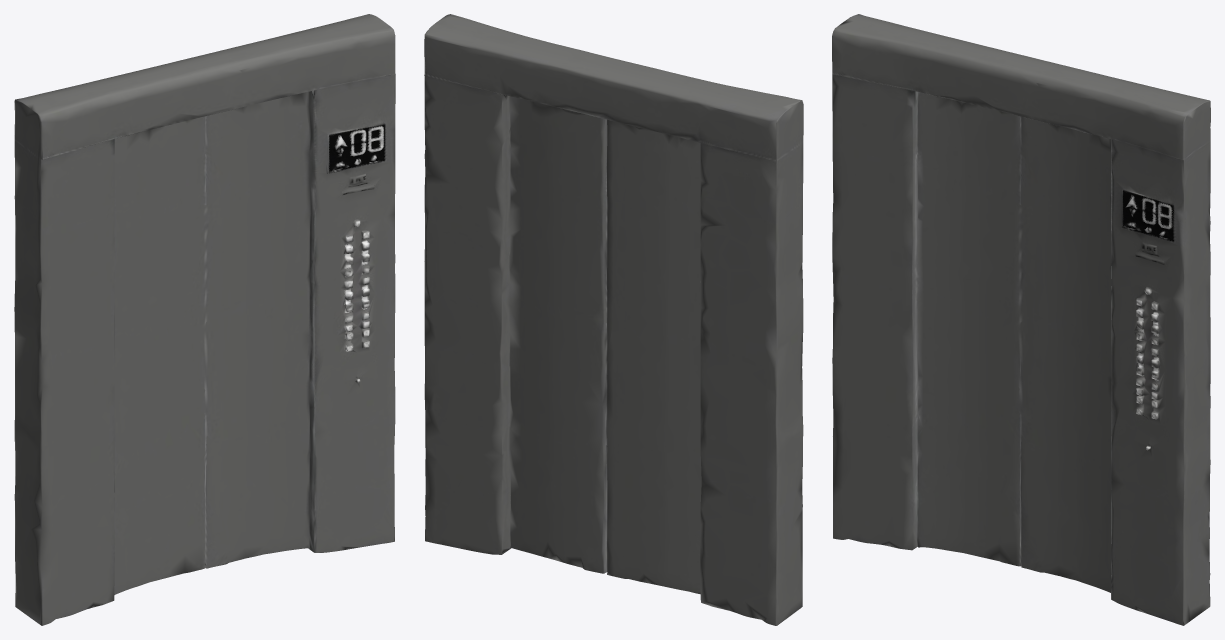
The model's file is lift.glb.
3 renders of one model, left to right at view 1: azimuth 30°, elevation 25°; view 2: azimuth 150°, elevation 25°; view 3: azimuth 330°, elevation 25°, orthographic.
Parts seen in each view (by area): view 1: tripo_node_fd0e62e2-f3a6-4bc2-8aaf-19a0c553b19a; view 2: tripo_node_fd0e62e2-f3a6-4bc2-8aaf-19a0c553b19a; view 3: tripo_node_fd0e62e2-f3a6-4bc2-8aaf-19a0c553b19a.
Boxes of the visible parts, <box> form: tripo_node_fd0e62e2-f3a6-4bc2-8aaf-19a0c553b19a: <box>14,14,395,625</box>; tripo_node_fd0e62e2-f3a6-4bc2-8aaf-19a0c553b19a: <box>424,14,803,625</box>; tripo_node_fd0e62e2-f3a6-4bc2-8aaf-19a0c553b19a: <box>832,14,1210,625</box>.
Bounding box in the file's own units: 0.7262 × 1 × 0.1008.
Materials: 1 (1 with a texture image).
